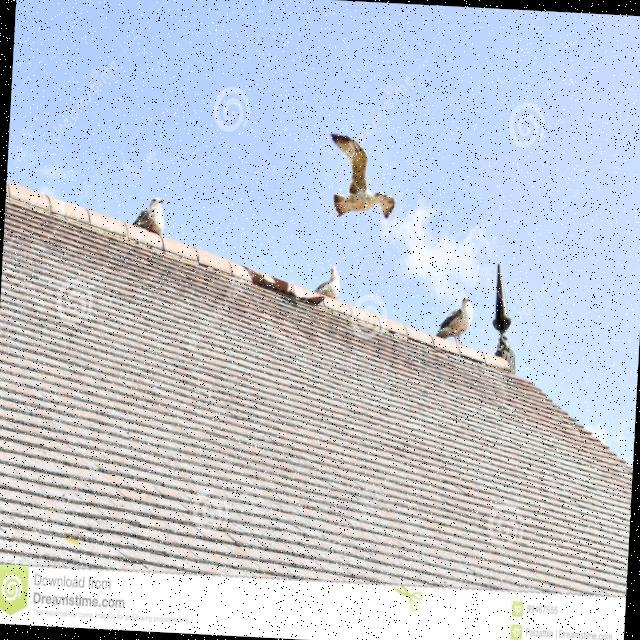bird: (324, 131, 400, 223), (490, 262, 516, 358), (433, 294, 475, 352), (130, 194, 168, 240), (312, 264, 342, 302)
